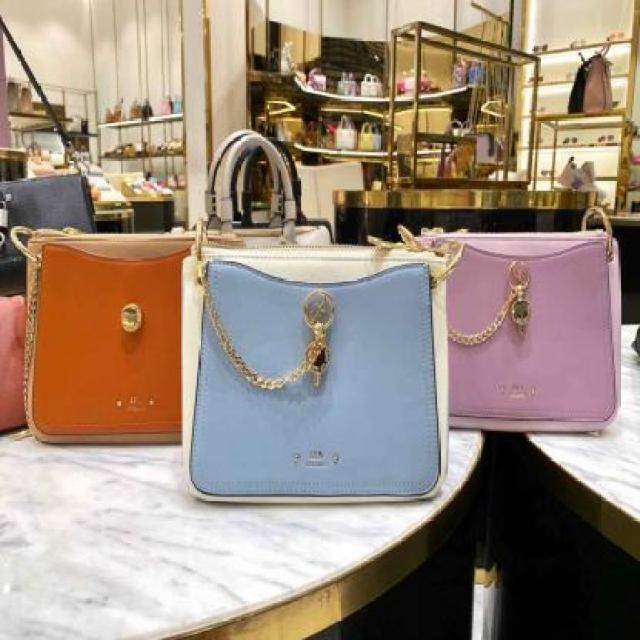Bag: (160, 164, 472, 521), (0, 164, 243, 490), (387, 166, 640, 458)
